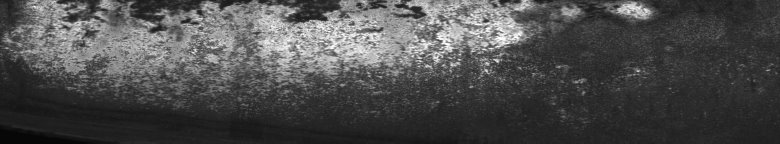kb: (47, 0, 673, 144)
